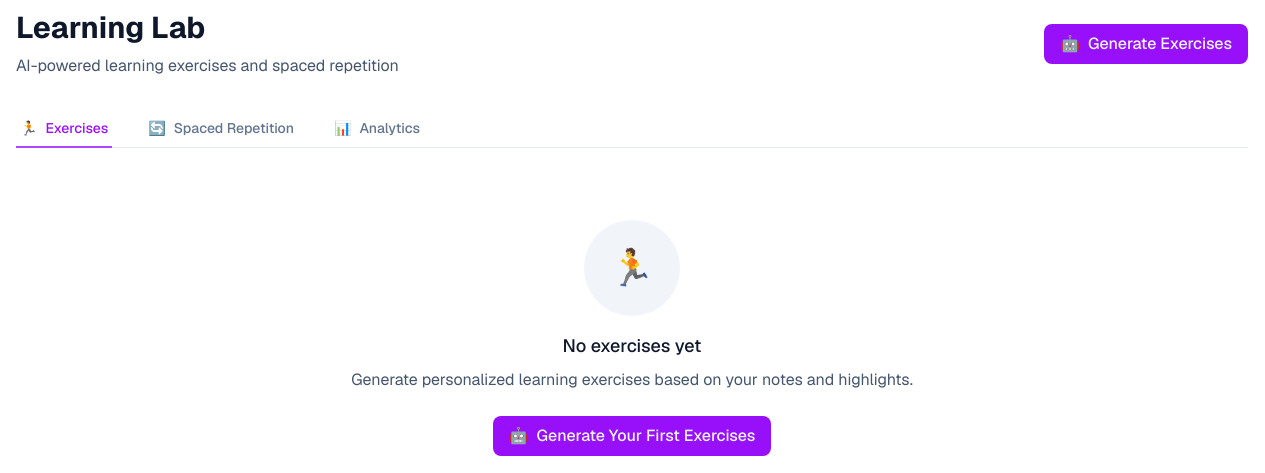
it: LearningLabView › switches to spaced repetition tab when clicked
Click the button "🔄Spaced Repetition". click: (221, 129)
box: [144,110,298,148]
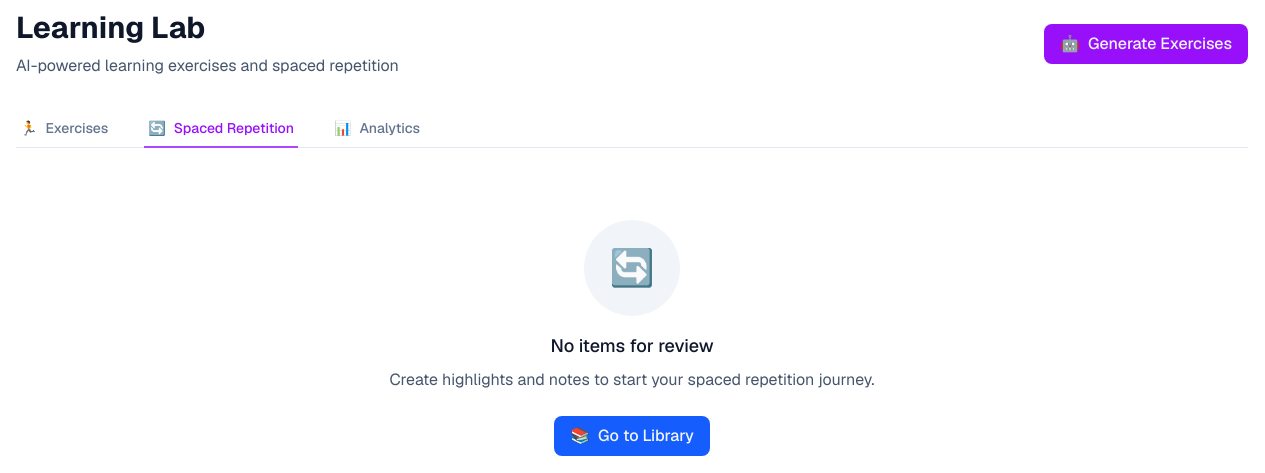
Check: the heading "No items for review" is shown, box [550,334,714,357]
Check: the text "Create highlights and notes to start your spaced repetition journey." is shown, box [389,369,875,390]
